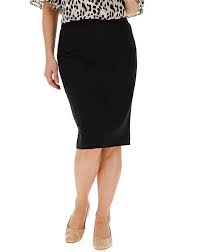F_tailored skirt: (53, 16, 144, 152)
